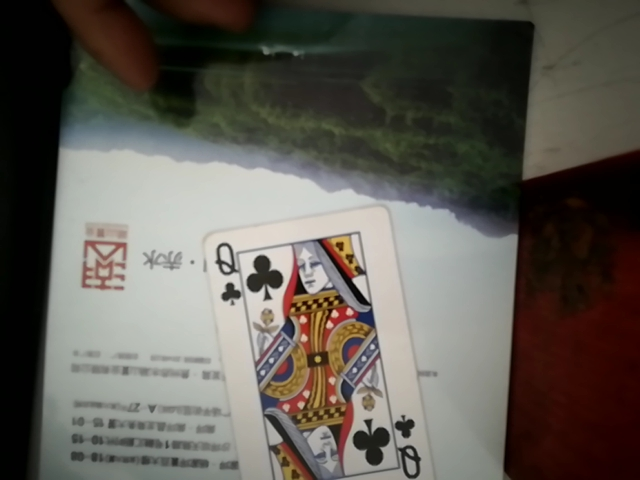mh q: (203, 195, 441, 480)
